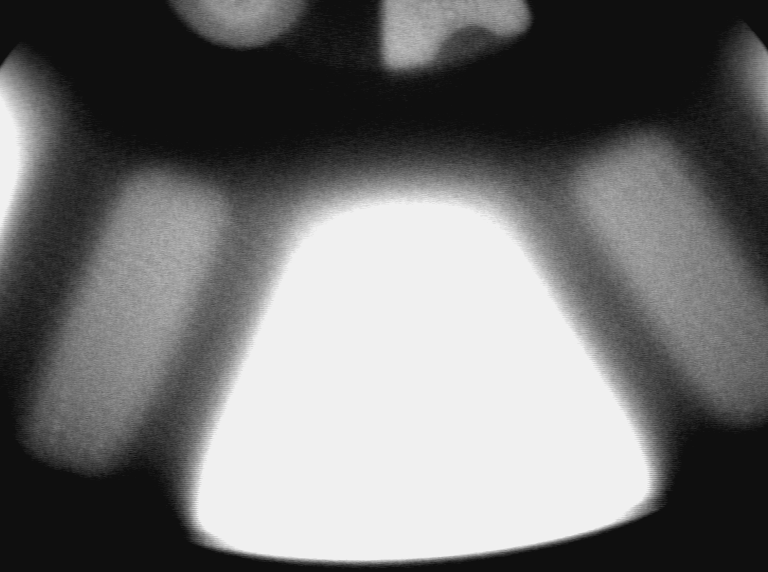defect: (53, 384, 70, 419)
